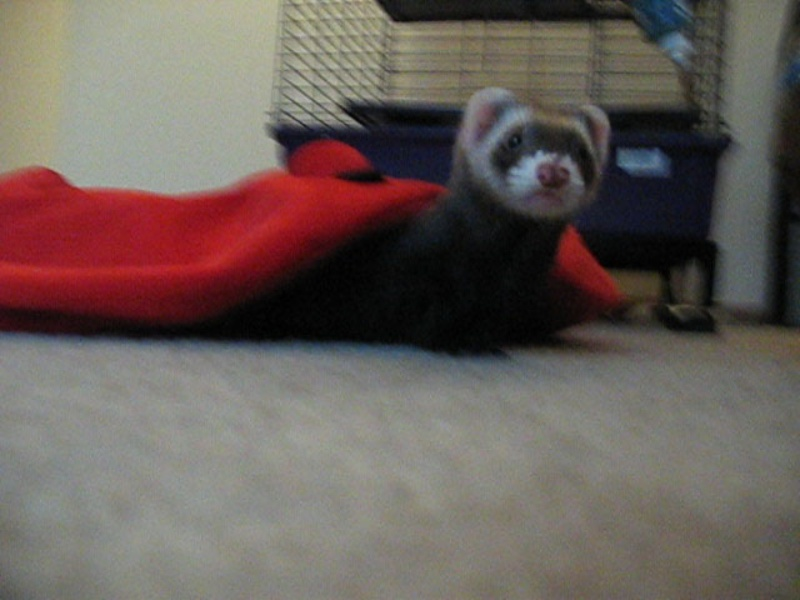minkish: (222, 83, 620, 373)
